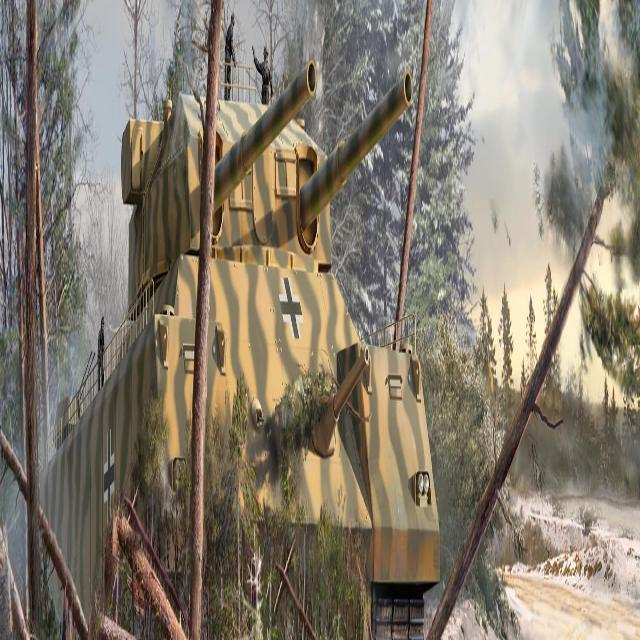Tanks: (84, 55, 449, 618)
